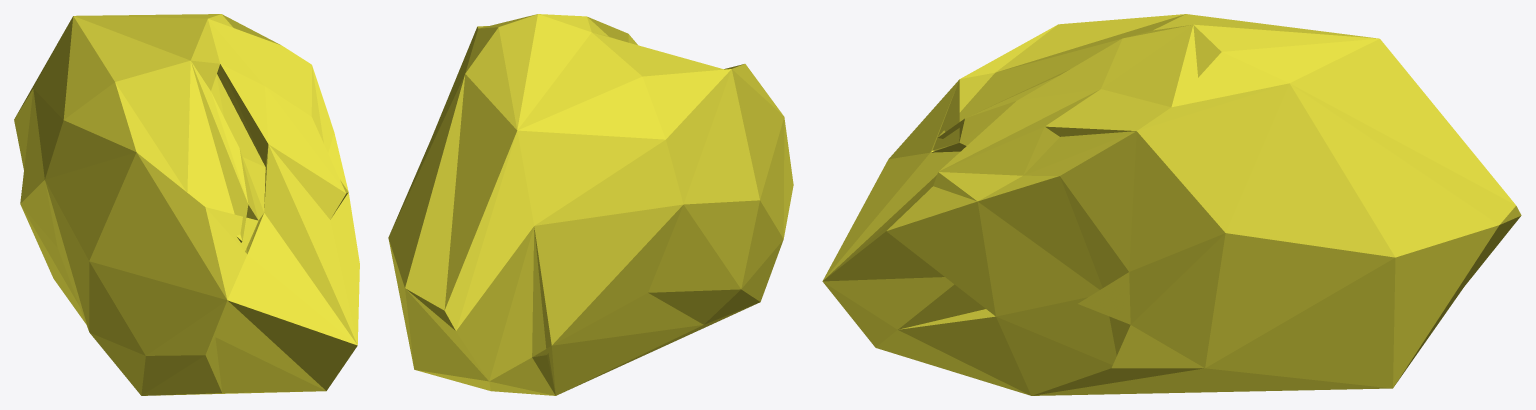
The model's file is meteor_yellow_bond_resin_03.glb.
3 renders of one model, left to right at view 1: azimuth 30°, elevation 25°; view 2: azimuth 150°, elevation 25°; view 3: azimuth 270°, elevation 25°, orthographic. The views are drawn at different scales.
Parts seen in each view (by area): view 1: Mesh1.002; view 2: Mesh1.002; view 3: Mesh1.002.
Boxes of the visible parts, bbox=[...] form: Mesh1.002: bbox=[14, 14, 359, 395]; Mesh1.002: bbox=[388, 14, 793, 395]; Mesh1.002: bbox=[822, 14, 1521, 395].
Size of the model in its own units: 1.37 by 1.52 by 2.71.
